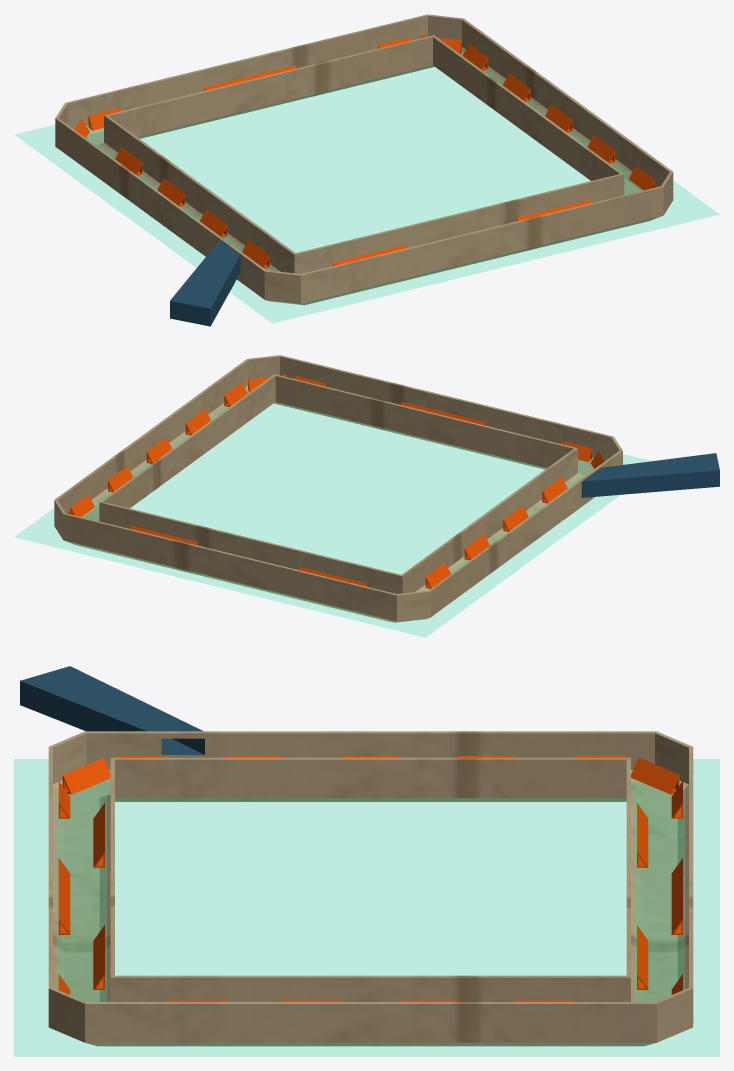
The model's file is SwimingPool.fbx.
3 views of the same model, one above another, from view 1: azimuth 30°, elevation 25°; view 2: azimuth 150°, elevation 25°; view 3: azimuth 270°, elevation 25° (orthographic). The views are drawn at different scales.
Parts seen in each view (by area): view 1: WALLS, WATER, LINES.002; view 2: WALLS, WATER, LINES.002; view 3: WATER, WALLS, LINES.002.
Boxes of the visible parts, <box> form: WALLS: <box>55,14,673,326</box>; WATER: <box>14,51,719,323</box>; LINES.002: <box>74,35,657,268</box>; WALLS: <box>54,355,719,622</box>; WATER: <box>15,390,649,637</box>; LINES.002: <box>68,375,604,588</box>; WATER: <box>14,759,719,1056</box>; WALLS: <box>20,666,693,1046</box>; LINES.002: <box>58,756,682,1001</box>.
Size of the model in its own units: 289 by 244 by 18.5.
